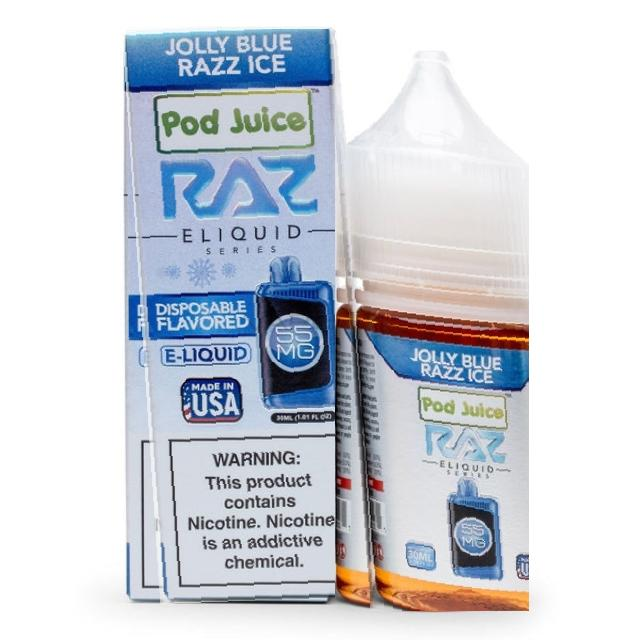Vapes: (122, 29, 335, 604), (329, 48, 529, 611)
